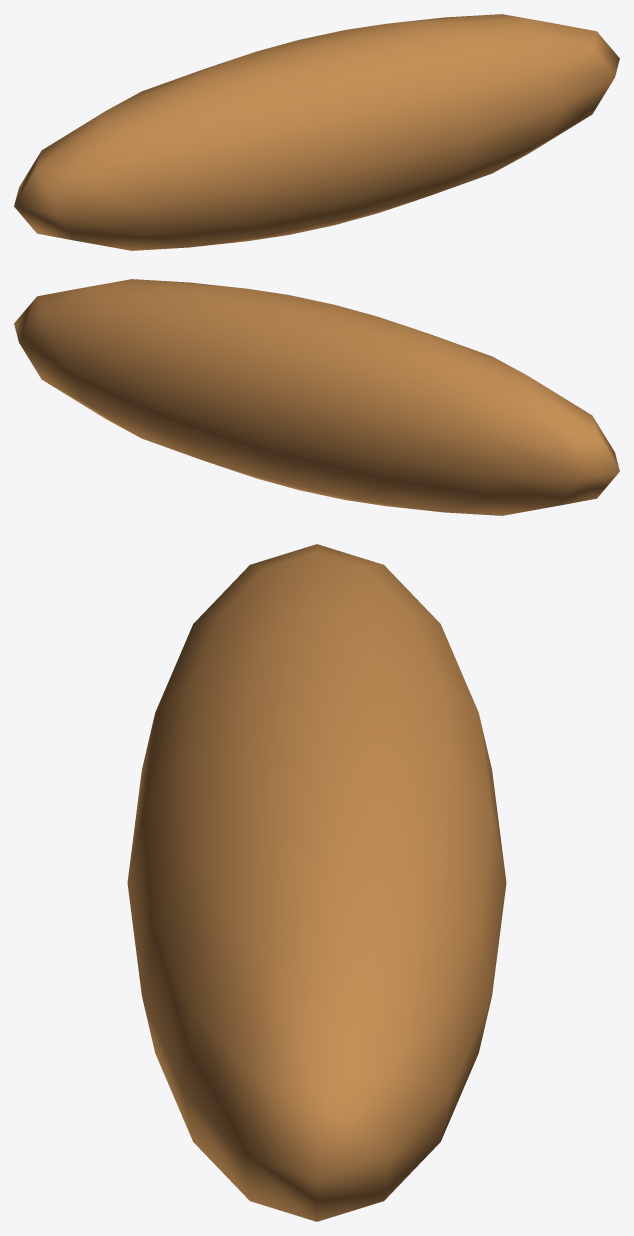
Rendered from sku_bread.glb.
The picture shows the model from 3 angles, top to bottom: view 1: azimuth 30°, elevation 25°; view 2: azimuth 150°, elevation 25°; view 3: azimuth 270°, elevation 25°; orthographic projection. The views are drawn at different scales.
Visible parts, largest first — view 1: sku_bread_Laminated_pastry; view 2: sku_bread_Laminated_pastry; view 3: sku_bread_Laminated_pastry.
Part boxes in pixels (bbox=[...]): sku_bread_Laminated_pastry: bbox=[14, 14, 619, 250]; sku_bread_Laminated_pastry: bbox=[14, 279, 619, 515]; sku_bread_Laminated_pastry: bbox=[127, 544, 506, 1221].
Bounding box in the file's own units: 0.48 × 0.13 × 0.13.
